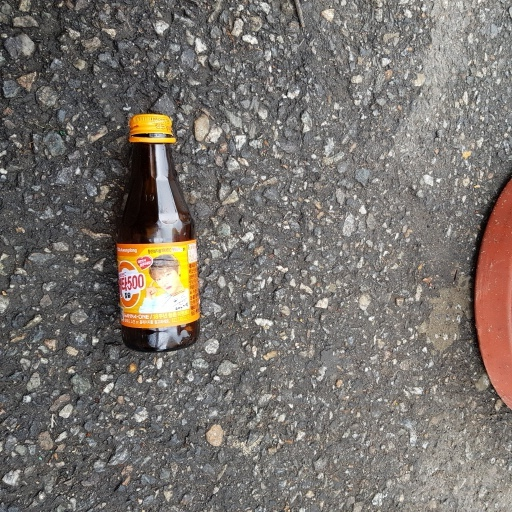Glass_3: (118, 110, 197, 356)
